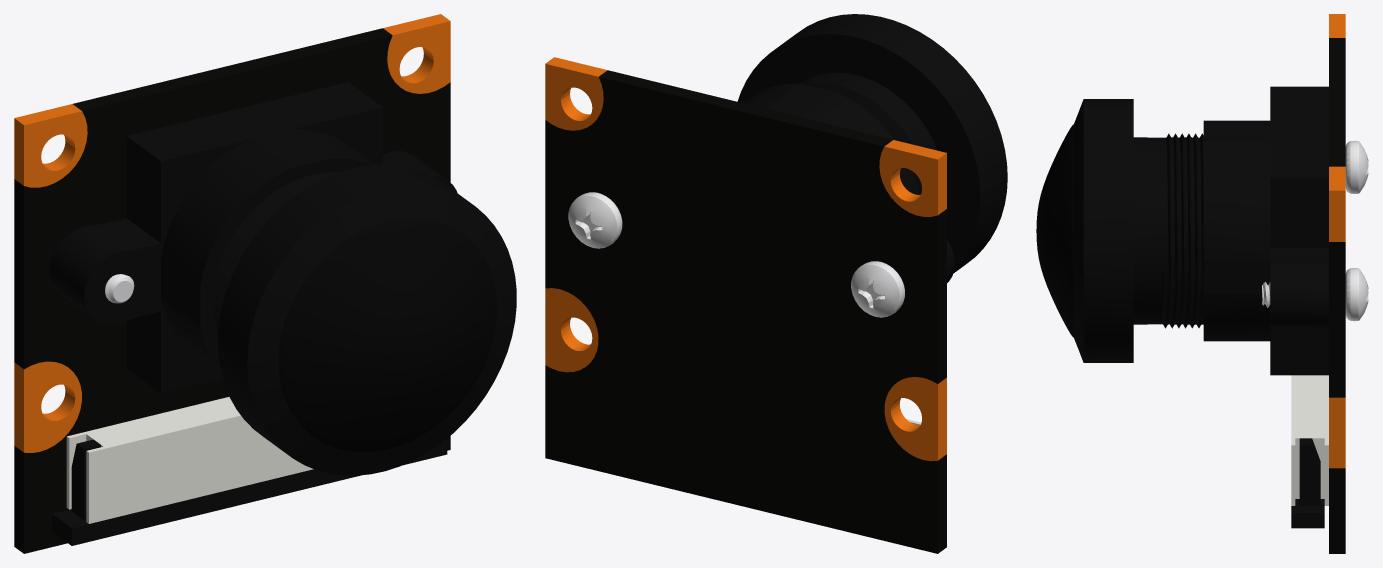
Rendered from camera.dae.
The picture shows the model from 3 angles, left to right: view 1: azimuth 30°, elevation 25°; view 2: azimuth 150°, elevation 25°; view 3: azimuth 270°, elevation 25°; orthographic projection. The views are drawn at different scales.
Parts seen in each view (by area): view 1: empty_11, empty_5, empty_12, empty_10, empty_9, empty_6, empty_8, empty_7, empty_3; view 2: empty_5, empty_11, empty_6, empty_8, empty_4, empty_7, empty_2, empty_3; view 3: empty_11, empty_5, empty_12, empty_10, empty_9, empty_2, empty_7, empty_4, empty_3.
Boxes of the visible parts, <box> form: empty_11: <box>49,82,516,475</box>; empty_5: <box>14,28,450,553</box>; empty_12: <box>279,218,496,452</box>; empty_10: <box>66,397,313,523</box>; empty_9: <box>52,438,447,545</box>; empty_6: <box>14,361,81,452</box>; empty_8: <box>14,104,87,187</box>; empty_7: <box>383,14,450,93</box>; empty_3: <box>105,274,134,303</box>; empty_5: <box>545,70,946,553</box>; empty_11: <box>737,14,1007,282</box>; empty_6: <box>884,377,946,461</box>; empty_8: <box>879,140,946,216</box>; empty_4: <box>545,288,598,372</box>; empty_7: <box>545,57,607,130</box>; empty_2: <box>568,192,622,248</box>; empty_3: <box>851,261,904,317</box>; empty_11: <box>1073,86,1328,375</box>; empty_5: <box>1329,38,1345,553</box>; empty_12: <box>1036,124,1073,337</box>; empty_10: <box>1291,375,1328,505</box>; empty_9: <box>1291,438,1324,528</box>; empty_2: <box>1262,268,1368,321</box>; empty_7: <box>1329,166,1345,241</box>; empty_4: <box>1329,397,1345,468</box>; empty_3: <box>1345,140,1368,193</box>.
Size of the model in its own units: 25 by 24 by 19.87.
